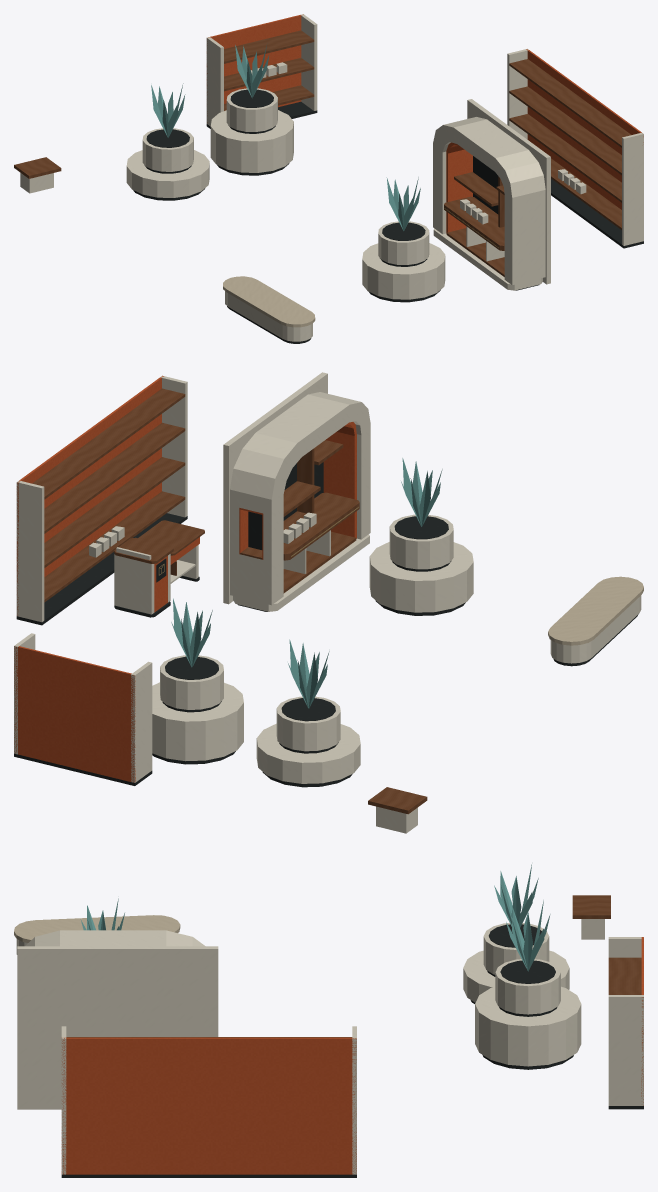
The model's file is SHOP_D09_S100_F210__care_clearance_r001.glb.
3 views of the same model, one above another, from view 1: azimuth 30°, elevation 25°; view 2: azimuth 150°, elevation 25°; view 3: azimuth 270°, elevation 25° (orthographic). The views are drawn at different scales.
Visible parts, largest first — view 1: SHOP_D09_S100_F210__fitout__ivory_enamel, SHOP_D09_S100_F210__fitout__warm_walnut, SHOP_D09_S100_F210__fitout__retail_terracotta_enamel, SHOP_D09_S100_F210__fitout__dark_rubber, SHOP_D09_S100_F210__fitout__quiet_teal, SHOP_D09_S100_F210__fitout__oatmeal_weave; view 2: SHOP_D09_S100_F210__fitout__ivory_enamel, SHOP_D09_S100_F210__fitout__retail_terracotta_enamel, SHOP_D09_S100_F210__fitout__warm_walnut, SHOP_D09_S100_F210__fitout__dark_rubber, SHOP_D09_S100_F210__fitout__quiet_teal, SHOP_D09_S100_F210__fitout__oatmeal_weave; view 3: SHOP_D09_S100_F210__fitout__ivory_enamel, SHOP_D09_S100_F210__fitout__retail_terracotta_enamel, SHOP_D09_S100_F210__fitout__dark_rubber, SHOP_D09_S100_F210__fitout__quiet_teal, SHOP_D09_S100_F210__fitout__warm_walnut, SHOP_D09_S100_F210__fitout__oatmeal_weave.
Boxes of the visible parts, x1,y1,x2,y2 form: SHOP_D09_S100_F210__fitout__ivory_enamel: (20,14,643,341); SHOP_D09_S100_F210__fitout__warm_walnut: (14,30,631,276); SHOP_D09_S100_F210__fitout__retail_terracotta_enamel: (206,14,643,233); SHOP_D09_S100_F210__fitout__dark_rubber: (133,89,643,343); SHOP_D09_S100_F210__fitout__quiet_teal: (151,45,420,231); SHOP_D09_S100_F210__fitout__oatmeal_weave: (223,276,315,327); SHOP_D09_S100_F210__fitout__ivory_enamel: (14,372,641,833); SHOP_D09_S100_F210__fitout__retail_terracotta_enamel: (14,375,356,782); SHOP_D09_S100_F210__fitout__warm_walnut: (32,388,427,814); SHOP_D09_S100_F210__fitout__dark_rubber: (14,462,638,787); SHOP_D09_S100_F210__fitout__quiet_teal: (171,458,442,708); SHOP_D09_S100_F210__fitout__oatmeal_weave: (548,576,643,645); SHOP_D09_S100_F210__fitout__ivory_enamel: (16,919,643,1174); SHOP_D09_S100_F210__fitout__retail_terracotta_enamel: (61,937,643,1174); SHOP_D09_S100_F210__fitout__dark_rubber: (61,924,643,1177); SHOP_D09_S100_F210__fitout__quiet_teal: (80,864,550,971); SHOP_D09_S100_F210__fitout__warm_walnut: (66,895,641,1037); SHOP_D09_S100_F210__fitout__oatmeal_weave: (14,915,180,942).
Bounding box in the file's own units: 10.25 × 3 × 10.67.
Materials: 7 (6 with a texture image).
